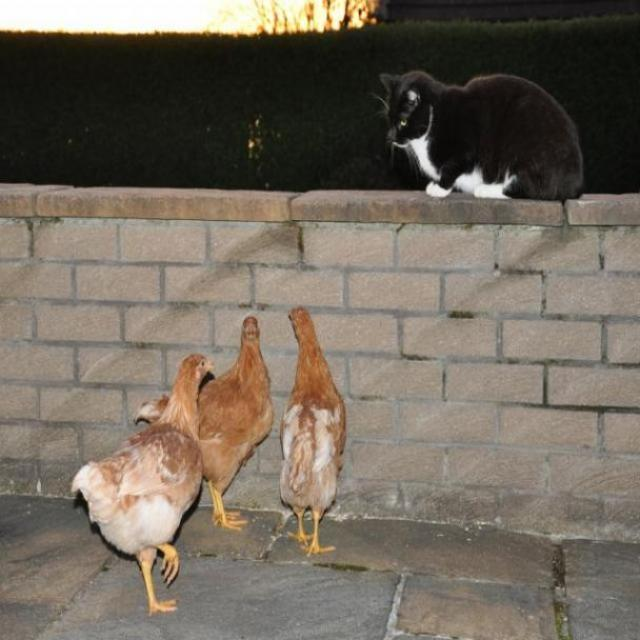Chicken: (73, 348, 216, 612), (132, 311, 277, 536), (273, 302, 349, 558)
